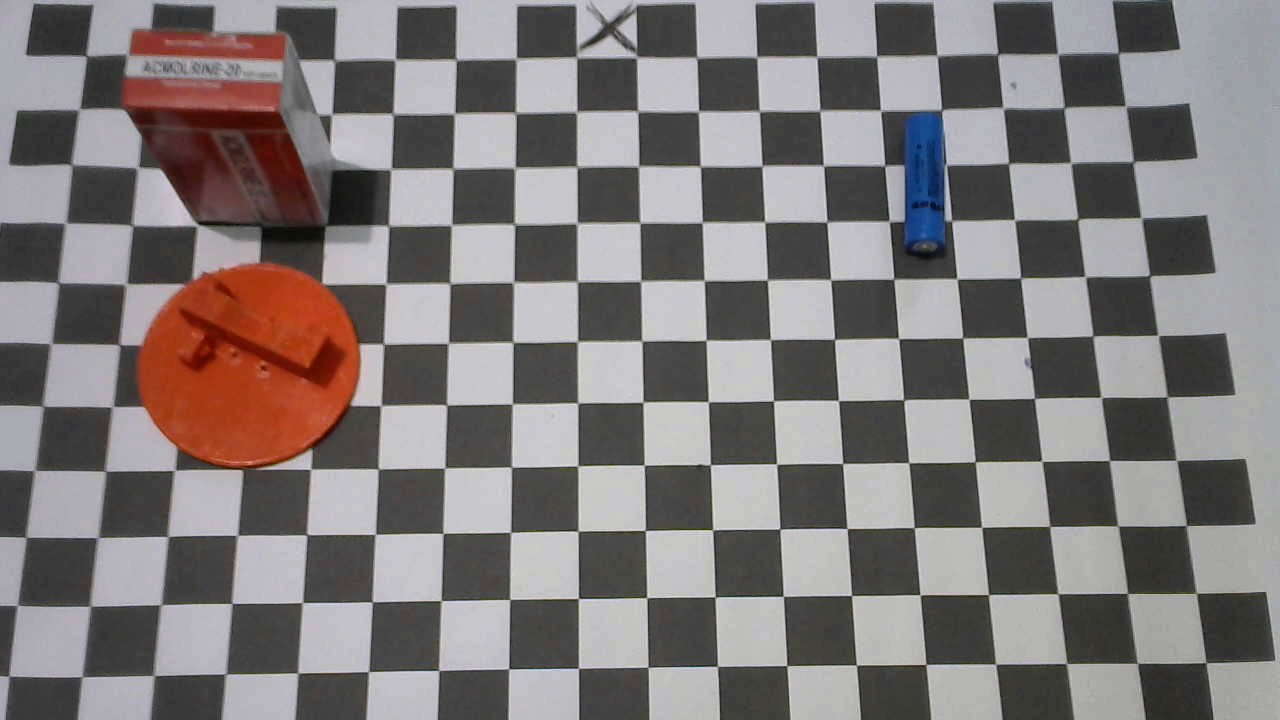green: (134, 260, 362, 471)
red: (118, 31, 330, 232)
yellow: (899, 108, 951, 256)
